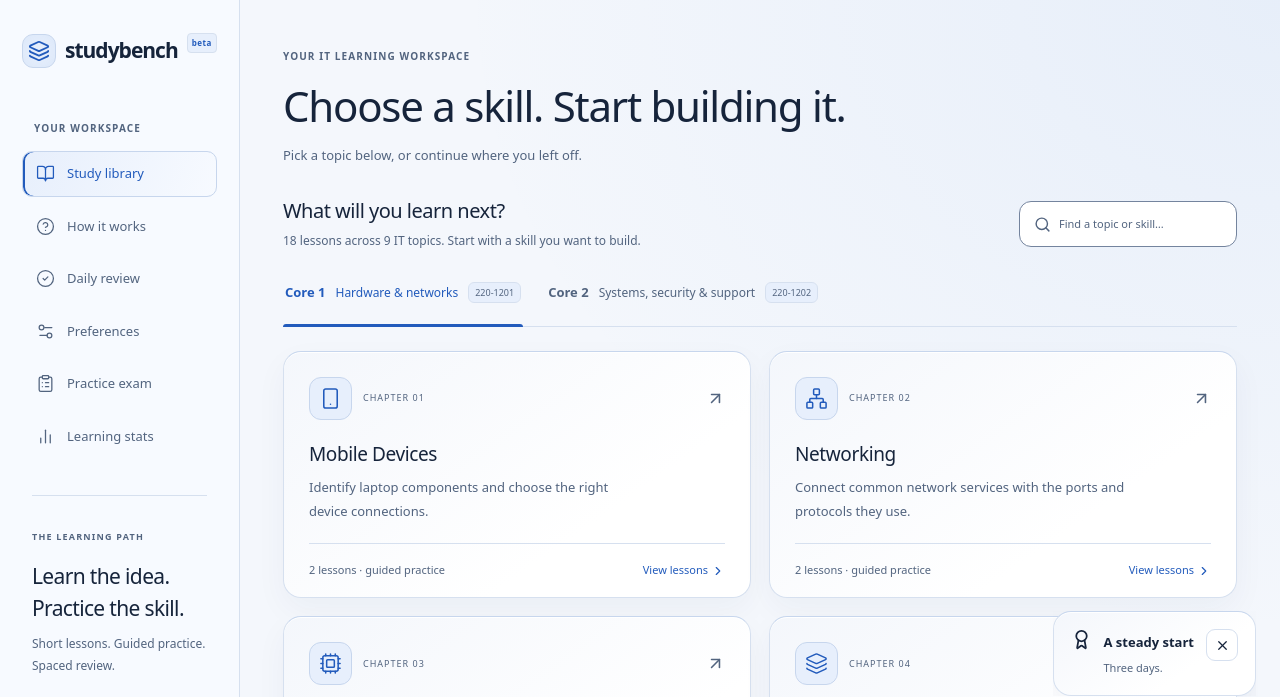
Test case: Phase 2 interaction paths › shows and dismisses an unlocked badge without changing earned history
(page scrolled)
What coordinates should you click on to do the following:
click the button named "Dismiss A steady start"
I would click on:
 (1222, 645)
Its box is [1206,629,1238,661].
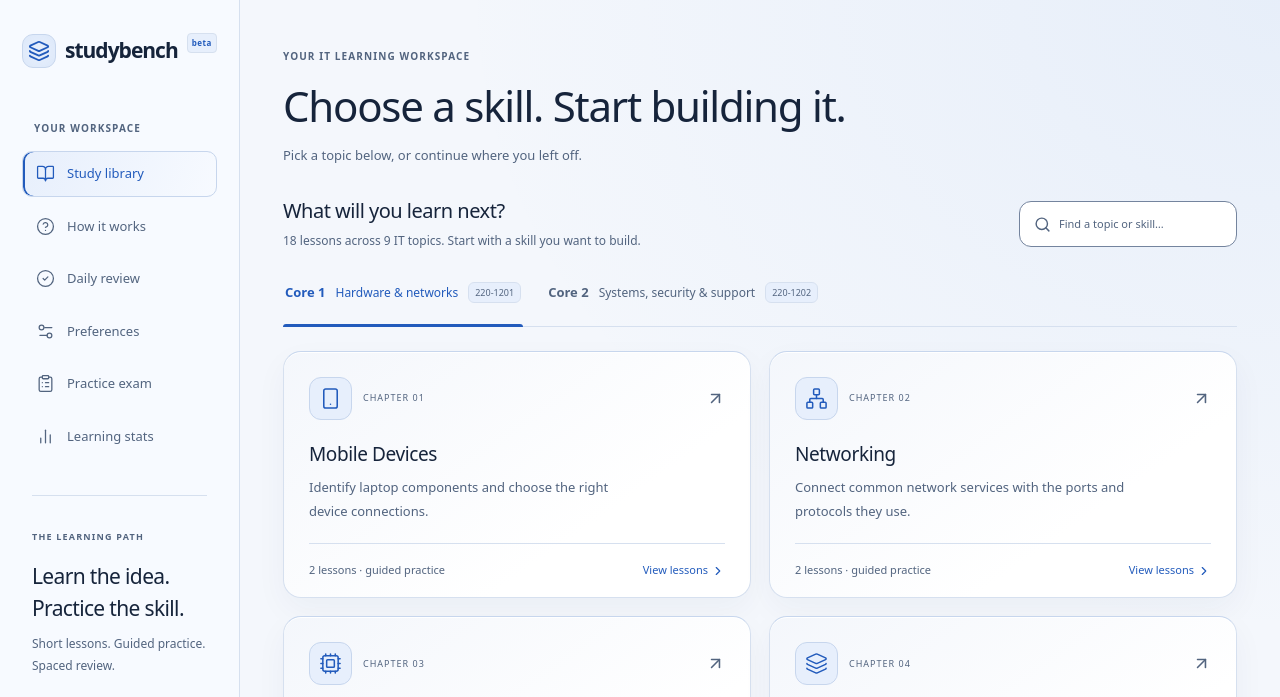
Expected: the text "A steady start" is gone
